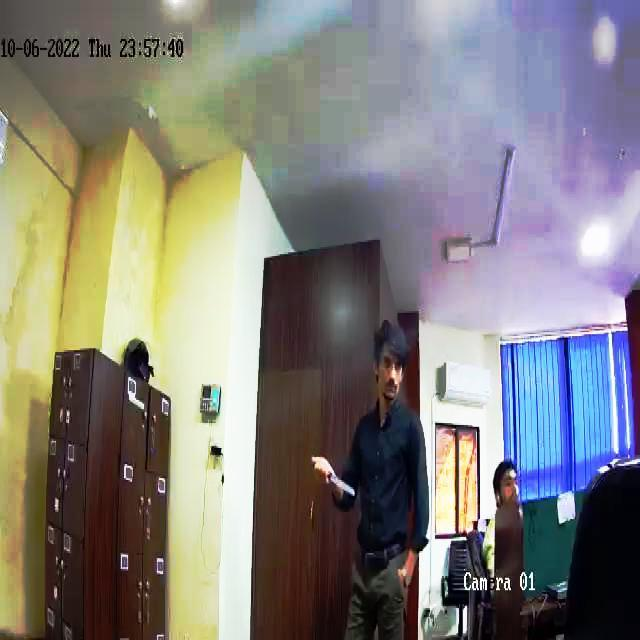Knife: (316, 455, 362, 508)
